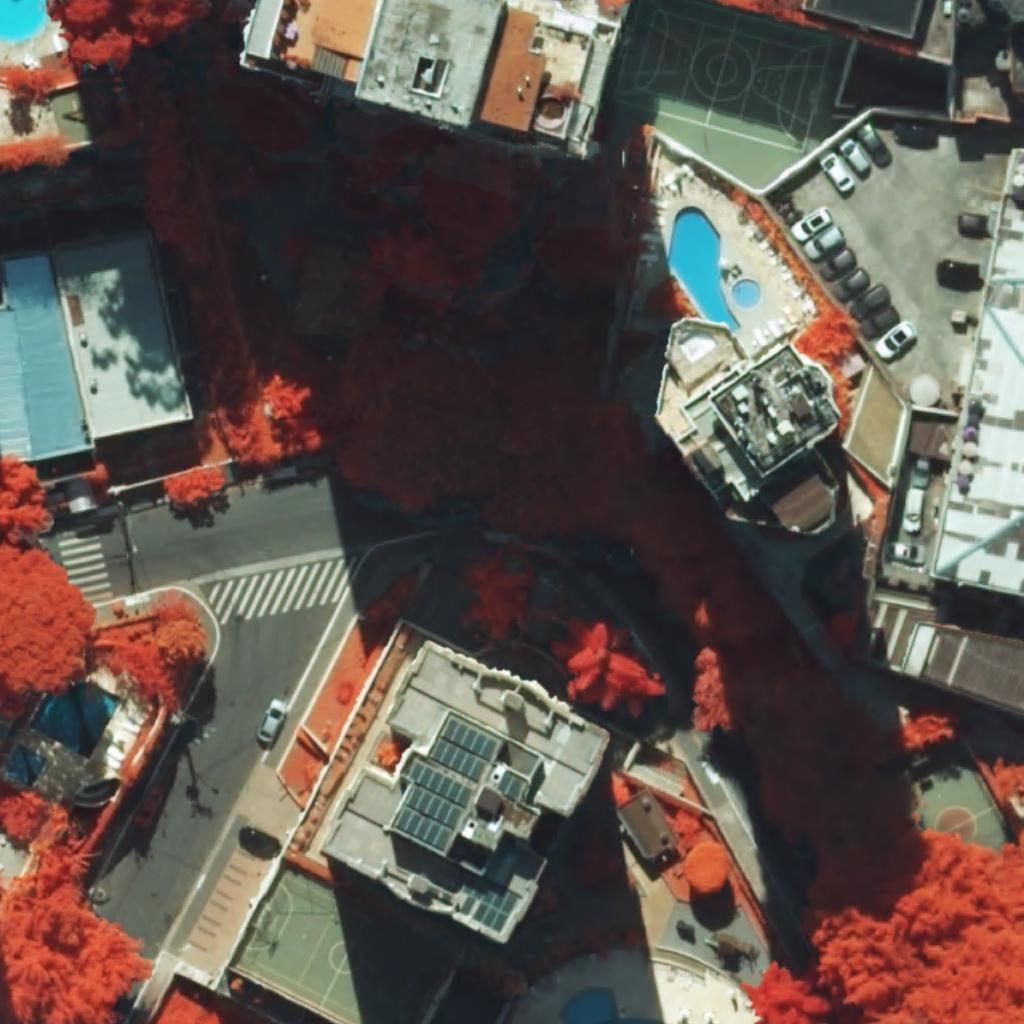pool: (668, 206, 740, 334), (28, 682, 122, 761), (559, 987, 667, 1024), (0, 0, 47, 43), (6, 744, 47, 787), (732, 279, 761, 308)
